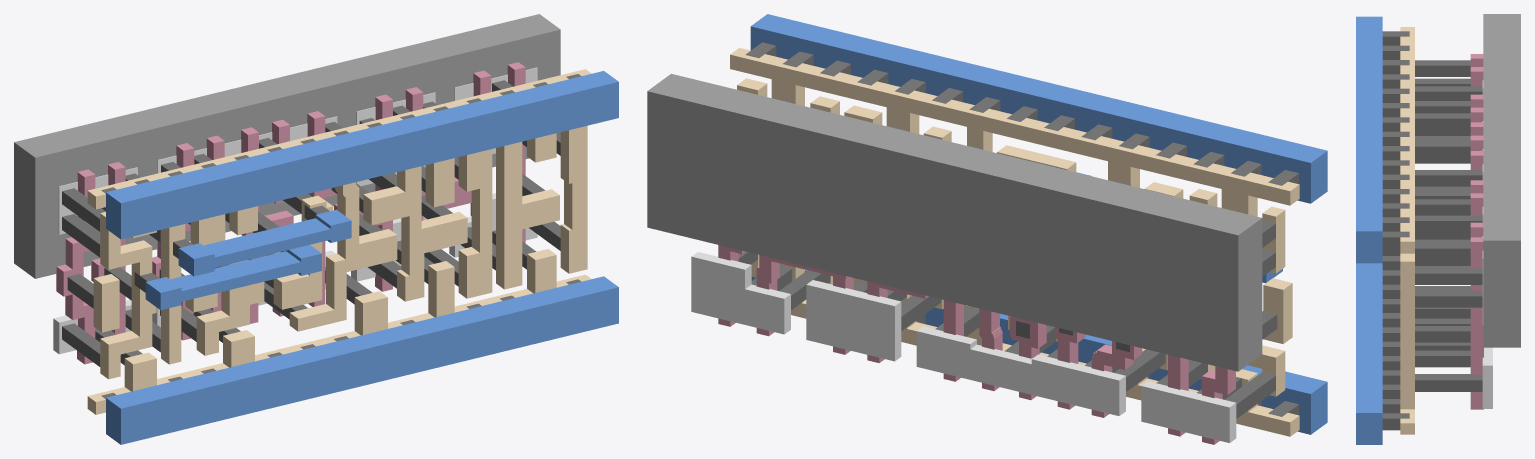
File: sky130_fd_sc_hd__dlxbp_1.gds.gltf
The picture shows the model from 3 angles, left to right: view 1: azimuth 30°, elevation 25°; view 2: azimuth 150°, elevation 25°; view 3: azimuth 270°, elevation 25°; orthographic projection. The views are drawn at different scales.
Parts seen in each view (by area): view 1: sky130_fd_sc_hd__dlxbp_1_met1, sky130_fd_sc_hd__dlxbp_1_li1, sky130_fd_sc_hd__dlxbp_1_nwell, sky130_fd_sc_hd__dlxbp_1_licon, sky130_fd_sc_hd__dlxbp_1_poly, sky130_fd_sc_hd__dlxbp_1_diff, sky130_fd_sc_hd__dlxbp_1_mcon; view 2: sky130_fd_sc_hd__dlxbp_1_nwell, sky130_fd_sc_hd__dlxbp_1_li1, sky130_fd_sc_hd__dlxbp_1_met1, sky130_fd_sc_hd__dlxbp_1_diff, sky130_fd_sc_hd__dlxbp_1_poly, sky130_fd_sc_hd__dlxbp_1_licon, sky130_fd_sc_hd__dlxbp_1_mcon; view 3: sky130_fd_sc_hd__dlxbp_1_licon, sky130_fd_sc_hd__dlxbp_1_nwell, sky130_fd_sc_hd__dlxbp_1_met1, sky130_fd_sc_hd__dlxbp_1_mcon, sky130_fd_sc_hd__dlxbp_1_li1, sky130_fd_sc_hd__dlxbp_1_poly, sky130_fd_sc_hd__dlxbp_1_diff.
Boxes of the visible parts, <box> form: sky130_fd_sc_hd__dlxbp_1_met1: <box>106,71,618,444</box>; sky130_fd_sc_hd__dlxbp_1_li1: <box>87,69,591,414</box>; sky130_fd_sc_hd__dlxbp_1_nwell: <box>14,14,560,278</box>; sky130_fd_sc_hd__dlxbp_1_licon: <box>62,80,560,366</box>; sky130_fd_sc_hd__dlxbp_1_poly: <box>56,62,525,364</box>; sky130_fd_sc_hd__dlxbp_1_diff: <box>53,67,537,354</box>; sky130_fd_sc_hd__dlxbp_1_mcon: <box>101,74,581,398</box>; sky130_fd_sc_hd__dlxbp_1_nwell: <box>647,73,1262,371</box>; sky130_fd_sc_hd__dlxbp_1_li1: <box>730,48,1299,436</box>; sky130_fd_sc_hd__dlxbp_1_met1: <box>750,14,1327,434</box>; sky130_fd_sc_hd__dlxbp_1_diff: <box>691,252,1236,442</box>; sky130_fd_sc_hd__dlxbp_1_poly: <box>718,245,1235,444</box>; sky130_fd_sc_hd__dlxbp_1_licon: <box>738,98,1277,418</box>; sky130_fd_sc_hd__dlxbp_1_mcon: <box>745,42,1298,416</box>; sky130_fd_sc_hd__dlxbp_1_licon: <box>1415,60,1482,391</box>; sky130_fd_sc_hd__dlxbp_1_nwell: <box>1483,14,1520,347</box>; sky130_fd_sc_hd__dlxbp_1_met1: <box>1356,16,1382,444</box>; sky130_fd_sc_hd__dlxbp_1_mcon: <box>1382,31,1409,430</box>; sky130_fd_sc_hd__dlxbp_1_li1: <box>1400,27,1414,434</box>; sky130_fd_sc_hd__dlxbp_1_poly: <box>1470,54,1483,409</box>; sky130_fd_sc_hd__dlxbp_1_diff: <box>1482,80,1492,408</box>.
Bounding box in the file's own units: 7.28 × 3.2 × 2.24.
